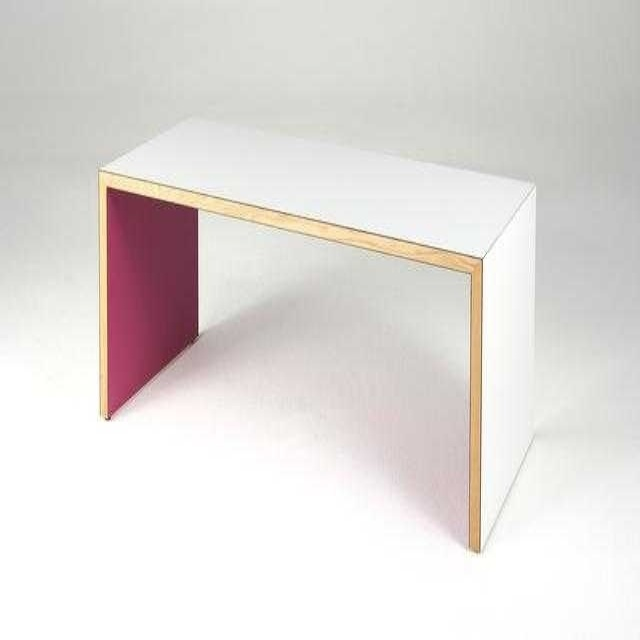obstacle: (98, 119, 535, 550)
